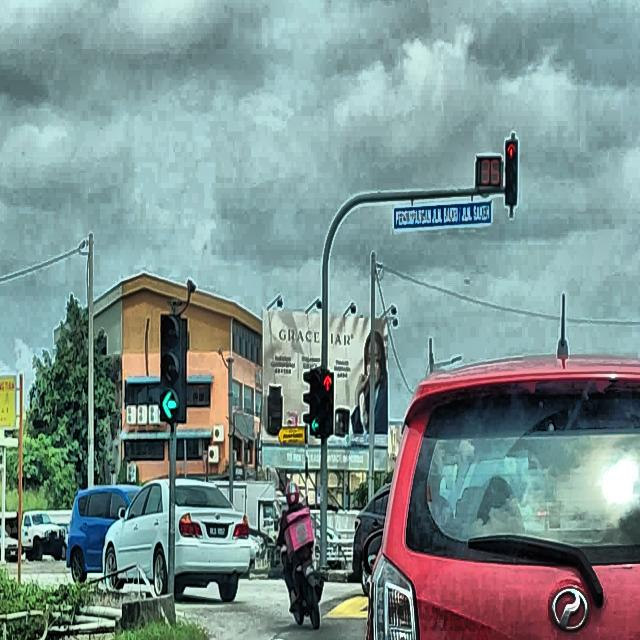green: (158, 312, 182, 422), (309, 368, 323, 437)
red: (505, 138, 518, 206), (322, 370, 334, 435)
